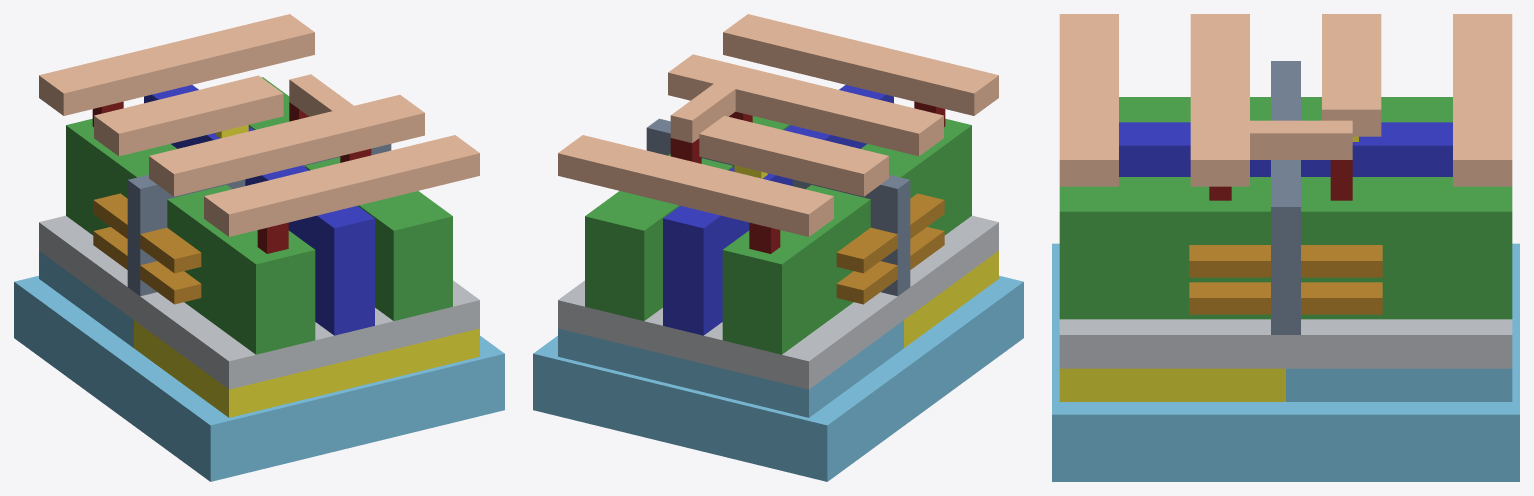
Rendered from show_fs.obj.
3 renders of one model, left to right at view 1: azimuth 30°, elevation 25°; view 2: azimuth 150°, elevation 25°; view 3: azimuth 270°, elevation 25°, orthographic. The views are drawn at different scales.
Visible parts, largest first — view 1: pwell, fox, md_vdd, m0_out, m0_gnd, m0_vdd, nwell, md_out, po, m0_in, md_gnd, wall (+7 smaller); view 2: pwell, fox, md_gnd, m0_gnd, m0_vdd, m0_out, pwell_u, md_out, po, m0_in, md_vdd, wall (+8 smaller); view 3: md_out, pwell, fox, m0_gnd, m0_out, m0_vdd, po, pwell_u, nwell, wall, m0_in, m0_out_jog (+7 smaller).
Boxes of the visible parts, bbox=[...] form: pwell: bbox=[14, 275, 504, 481]; fox: bbox=[39, 215, 479, 389]; md_vdd: bbox=[167, 185, 315, 354]; m0_out: bbox=[149, 94, 424, 196]; m0_gnd: bbox=[39, 14, 314, 115]; m0_vdd: bbox=[204, 135, 479, 236]; nwell: bbox=[134, 320, 479, 417]; md_out: bbox=[248, 77, 452, 320]; po: bbox=[144, 85, 374, 335]; m0_in: bbox=[94, 75, 283, 156]; md_gnd: bbox=[66, 118, 176, 235]; wall: bbox=[127, 144, 391, 296]; pwell: bbox=[533, 275, 1023, 481]; fox: bbox=[558, 215, 998, 389]; md_gnd: bbox=[722, 185, 870, 354]; m0_gnd: bbox=[558, 135, 833, 236]; m0_vdd: bbox=[723, 14, 998, 115]; m0_out: bbox=[668, 54, 943, 156]; pwell_u: bbox=[558, 320, 903, 417]; md_out: bbox=[585, 116, 790, 320]; po: bbox=[663, 85, 893, 335]; m0_in: bbox=[699, 115, 888, 196]; md_vdd: bbox=[861, 118, 971, 235]; wall: bbox=[646, 118, 910, 296]; md_out: bbox=[1059, 177, 1512, 319]; pwell: bbox=[1052, 243, 1519, 481]; fox: bbox=[1059, 319, 1512, 368]; m0_gnd: bbox=[1453, 14, 1512, 186]; m0_out: bbox=[1190, 14, 1249, 186]; m0_vdd: bbox=[1059, 14, 1118, 186]; po: bbox=[1119, 122, 1452, 176]; pwell_u: bbox=[1286, 368, 1512, 401]; nwell: bbox=[1059, 368, 1285, 401]; wall: bbox=[1271, 61, 1300, 334]; m0_in: bbox=[1322, 14, 1381, 136]; m0_out_jog: bbox=[1250, 120, 1352, 159].
Size of the model in its own units: 109 by 92 by 126.
